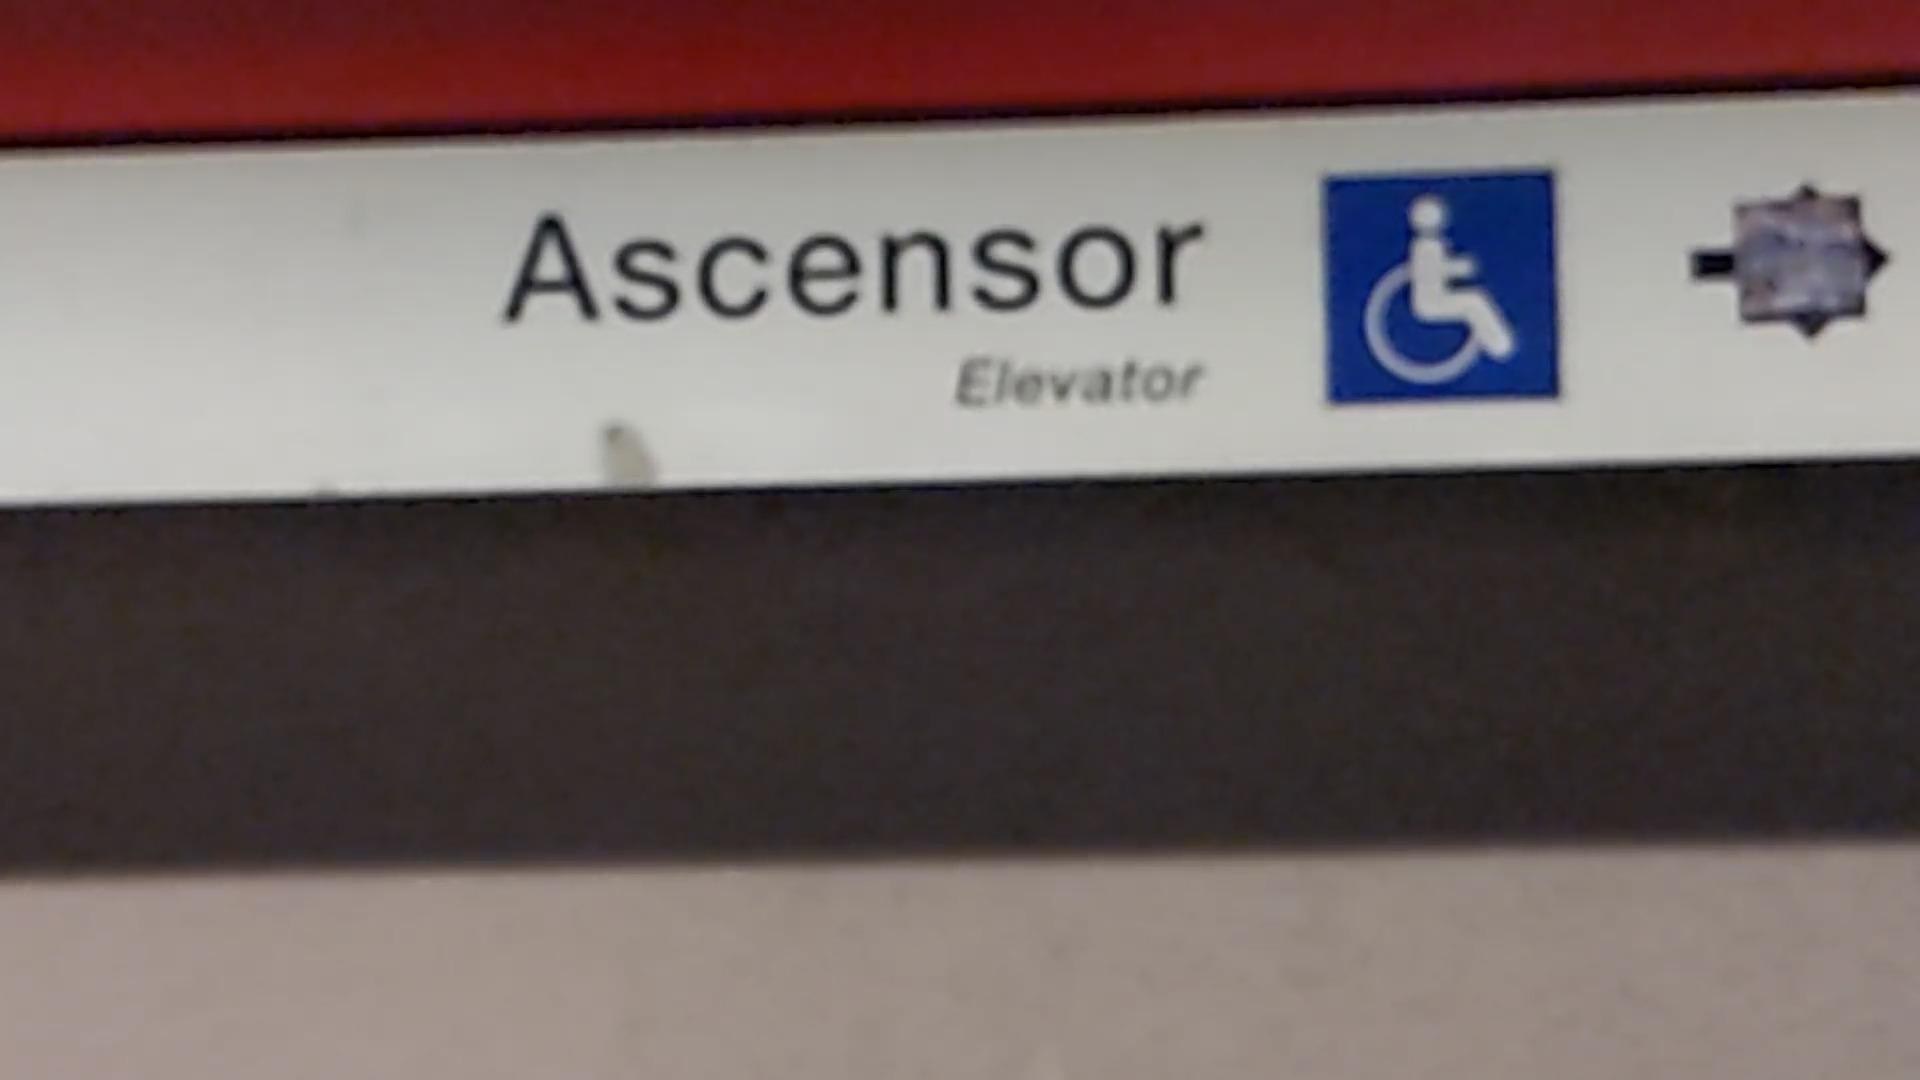handicapped symbol: (1362, 196, 1511, 392)
